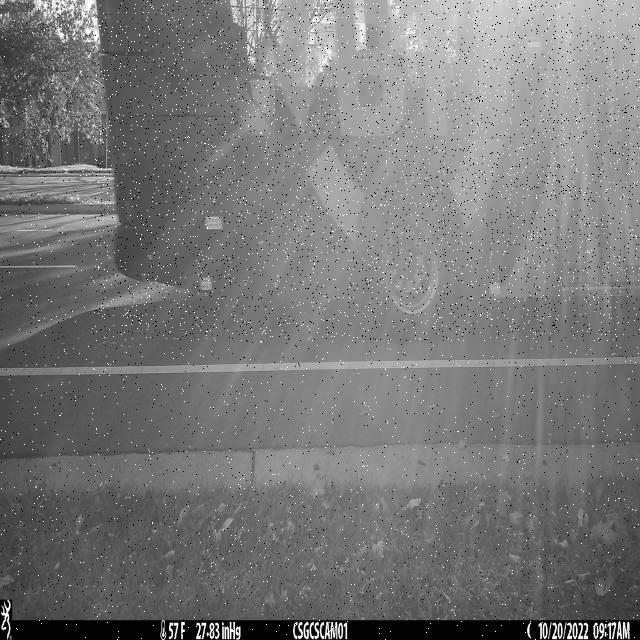Bus: (95, 0, 640, 341)
